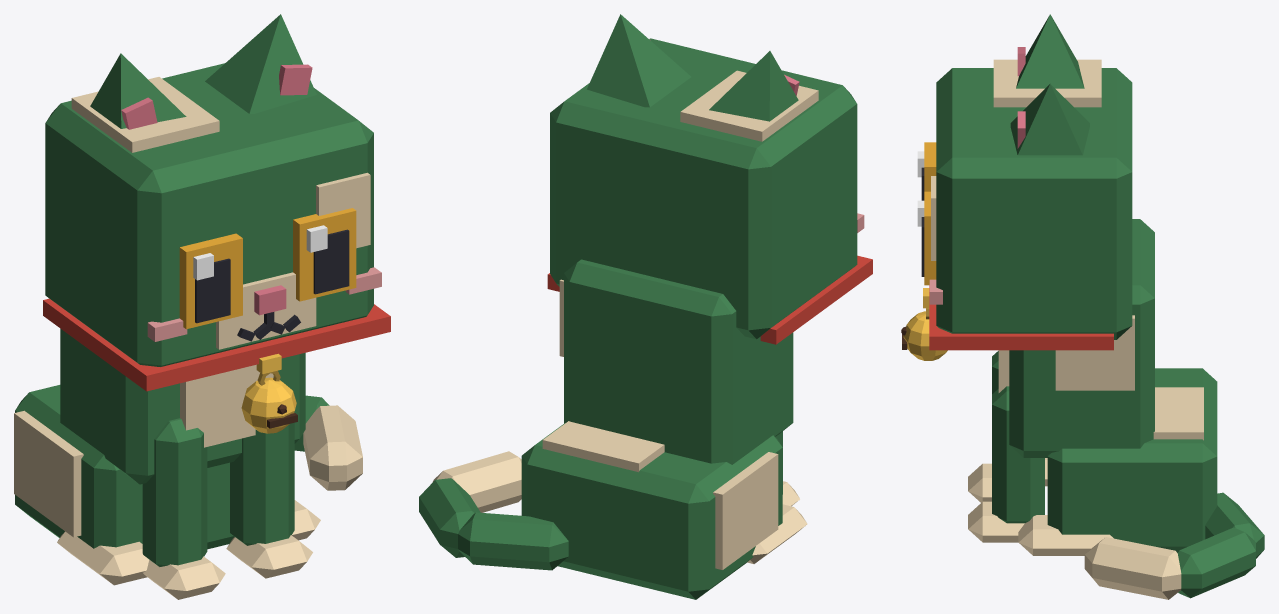
Rendered from CatCafe_Cat_Jingle_Sit.glb.
3 views of the same model, side by side, from view 1: azimuth 30°, elevation 25°; view 2: azimuth 150°, elevation 25°; view 3: azimuth 270°, elevation 25° (orthographic). The views are drawn at different scales.
Parts seen in each view (by area): view 1: CatCafe_Cat_Jingle_Sit_Head, CatCafe_Cat_Jingle_Sit_Body, CatCafe_Cat_Jingle_Sit_LegF2, CatCafe_Cat_Jingle_Sit_LegF1, CatCafe_Cat_Jingle_Sit_Prop, CatCafe_Cat_Jingle_Sit_EarL, CatCafe_Cat_Jingle_Sit_Eye2, CatCafe_Cat_Jingle_Sit_Eye1, CatCafe_Cat_Jingle_Sit_Tail, CatCafe_Cat_Jingle_Sit_EarR, CatCafe_Cat_Jingle_Sit_Bell; view 2: CatCafe_Cat_Jingle_Sit_Body, CatCafe_Cat_Jingle_Sit_Head, CatCafe_Cat_Jingle_Sit_Tail, CatCafe_Cat_Jingle_Sit_EarL, CatCafe_Cat_Jingle_Sit_EarR, CatCafe_Cat_Jingle_Sit_Prop; view 3: CatCafe_Cat_Jingle_Sit_Head, CatCafe_Cat_Jingle_Sit_Body, CatCafe_Cat_Jingle_Sit_Tail, CatCafe_Cat_Jingle_Sit_LegF1, CatCafe_Cat_Jingle_Sit_EarL, CatCafe_Cat_Jingle_Sit_Prop, CatCafe_Cat_Jingle_Sit_EarR, CatCafe_Cat_Jingle_Sit_Bell, CatCafe_Cat_Jingle_Sit_Eye1, CatCafe_Cat_Jingle_Sit_LegF2, CatCafe_Cat_Jingle_Sit_Eye2.
Boxes of the visible parts, bbox=[...] form: CatCafe_Cat_Jingle_Sit_Head: bbox=[45, 63, 381, 366]; CatCafe_Cat_Jingle_Sit_Body: bbox=[14, 328, 320, 585]; CatCafe_Cat_Jingle_Sit_LegF2: bbox=[142, 418, 225, 599]; CatCafe_Cat_Jingle_Sit_LegF1: bbox=[226, 412, 312, 578]; CatCafe_Cat_Jingle_Sit_Prop: bbox=[43, 298, 390, 391]; CatCafe_Cat_Jingle_Sit_EarL: bbox=[205, 14, 316, 113]; CatCafe_Cat_Jingle_Sit_Eye2: bbox=[179, 233, 242, 329]; CatCafe_Cat_Jingle_Sit_Eye1: bbox=[293, 208, 356, 301]; CatCafe_Cat_Jingle_Sit_Tail: bbox=[294, 395, 362, 490]; CatCafe_Cat_Jingle_Sit_EarR: bbox=[90, 53, 186, 129]; CatCafe_Cat_Jingle_Sit_Bell: bbox=[241, 370, 297, 433]; CatCafe_Cat_Jingle_Sit_Body: bbox=[521, 259, 807, 599]; CatCafe_Cat_Jingle_Sit_Head: bbox=[550, 38, 864, 339]; CatCafe_Cat_Jingle_Sit_Tail: bbox=[419, 451, 568, 570]; CatCafe_Cat_Jingle_Sit_EarL: bbox=[587, 14, 690, 107]; CatCafe_Cat_Jingle_Sit_EarR: bbox=[709, 51, 799, 121]; CatCafe_Cat_Jingle_Sit_Prop: bbox=[547, 255, 872, 344]; CatCafe_Cat_Jingle_Sit_Head: bbox=[929, 59, 1132, 339]; CatCafe_Cat_Jingle_Sit_Body: bbox=[998, 219, 1217, 555]; CatCafe_Cat_Jingle_Sit_Tail: bbox=[1084, 492, 1264, 599]; CatCafe_Cat_Jingle_Sit_LegF1: bbox=[968, 386, 1044, 542]; CatCafe_Cat_Jingle_Sit_EarL: bbox=[1010, 84, 1089, 155]; CatCafe_Cat_Jingle_Sit_Prop: bbox=[923, 285, 1113, 350]; CatCafe_Cat_Jingle_Sit_EarR: bbox=[1016, 14, 1084, 88]; CatCafe_Cat_Jingle_Sit_Bell: bbox=[901, 308, 947, 360]; CatCafe_Cat_Jingle_Sit_Eye1: bbox=[917, 191, 936, 285]; CatCafe_Cat_Jingle_Sit_LegF2: bbox=[968, 351, 998, 502]; CatCafe_Cat_Jingle_Sit_Eye2: bbox=[917, 142, 936, 200].
Bounding box in the file's own units: 1.25 × 1.85 × 1.3.
1 material, 1 textured.
